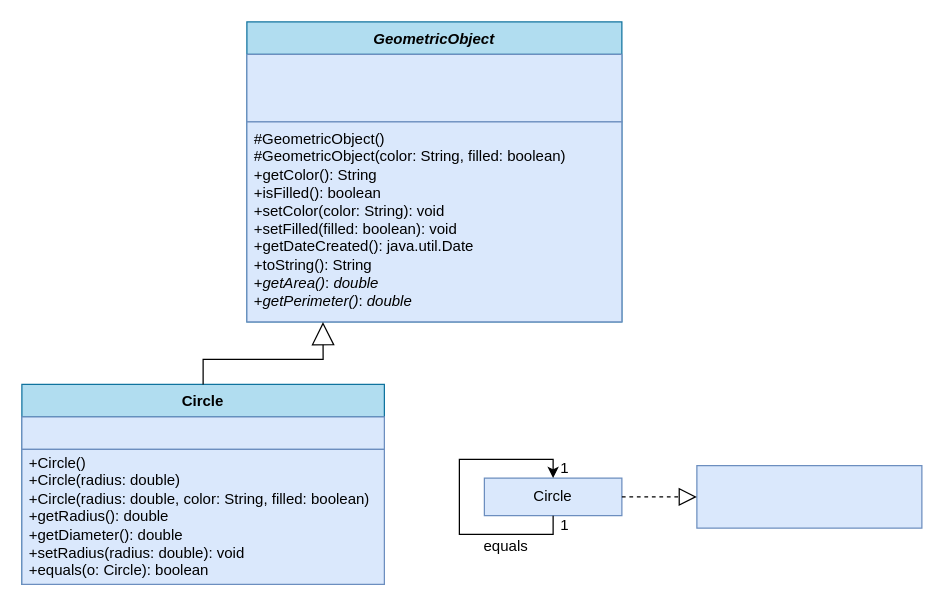
This 944x610 diagram has some shape labels left out. Here are the shapes that lost their labels. From the top down, the centre of each, then its label:
the point at 434,87: -color: String -filled: boolean -dateCreated: java.util.Date
the point at 202,432: -radius: double
the point at 809,496: <<interface>> java.lang.Comparable<circle>
